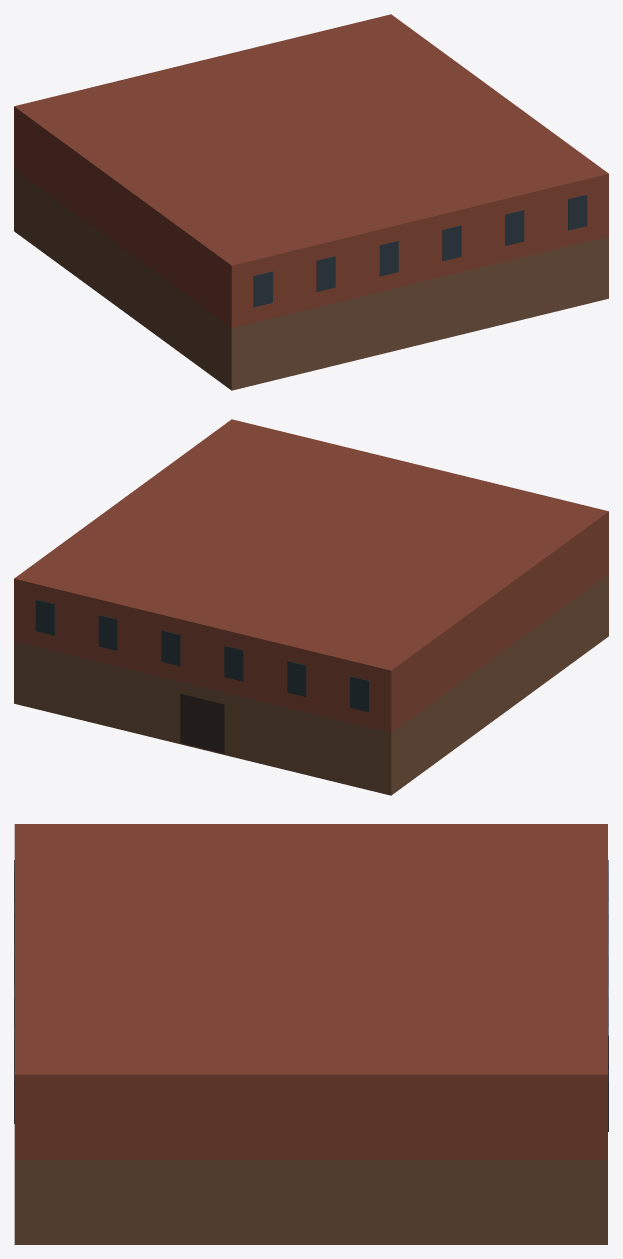
File: tw_brick_24_base_lod1.glb
3 renders of one model, top to bottom at view 1: azimuth 30°, elevation 25°; view 2: azimuth 150°, elevation 25°; view 3: azimuth 270°, elevation 25°, orthographic. The views are drawn at different scales.
Parts seen in each view (by area): view 1: tw_brick_24_base_lod1; view 2: tw_brick_24_base_lod1; view 3: tw_brick_24_base_lod1.
Boxes of the visible parts, x1,y1,x2,y2 form: tw_brick_24_base_lod1: [14, 14, 608, 390]; tw_brick_24_base_lod1: [14, 419, 608, 795]; tw_brick_24_base_lod1: [14, 824, 608, 1244].
Size of the model in its own units: 24 by 7.6 by 24.07.
1 material, 1 textured.
